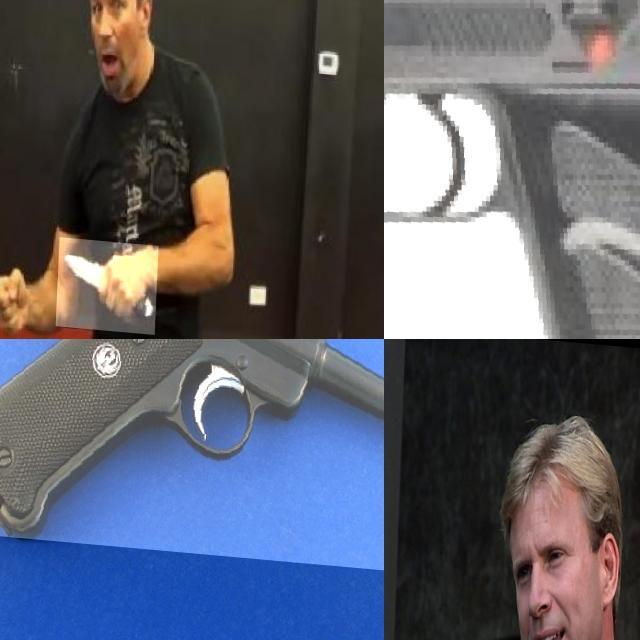-: (60, 232, 162, 328)
gun-knife-thesis - v11 Yolov5 augmented: (0, 339, 384, 567), (384, 0, 640, 339)
